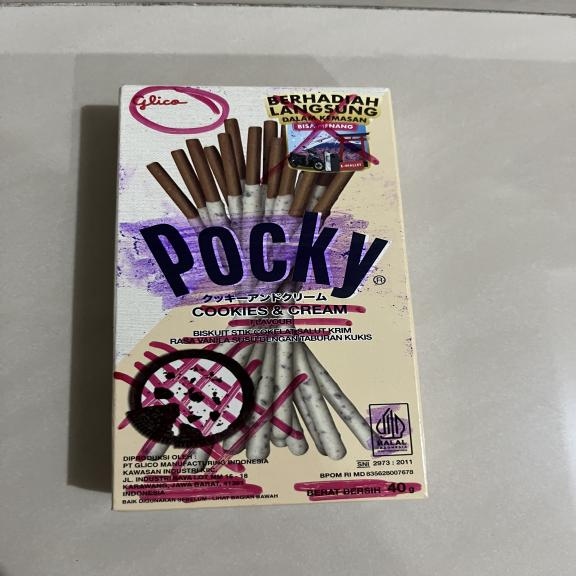Kertas: (120, 83, 425, 503)
